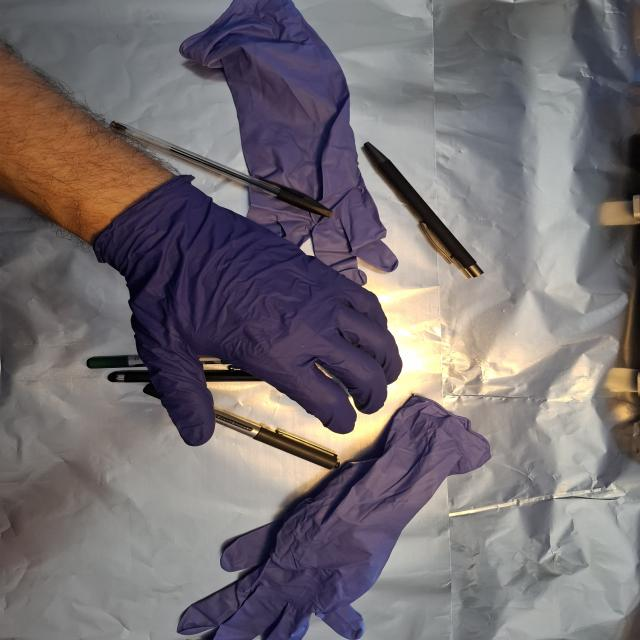glove_on: (99, 178, 407, 450)
